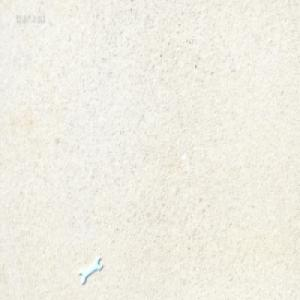Wrench: (78, 256, 103, 284)
